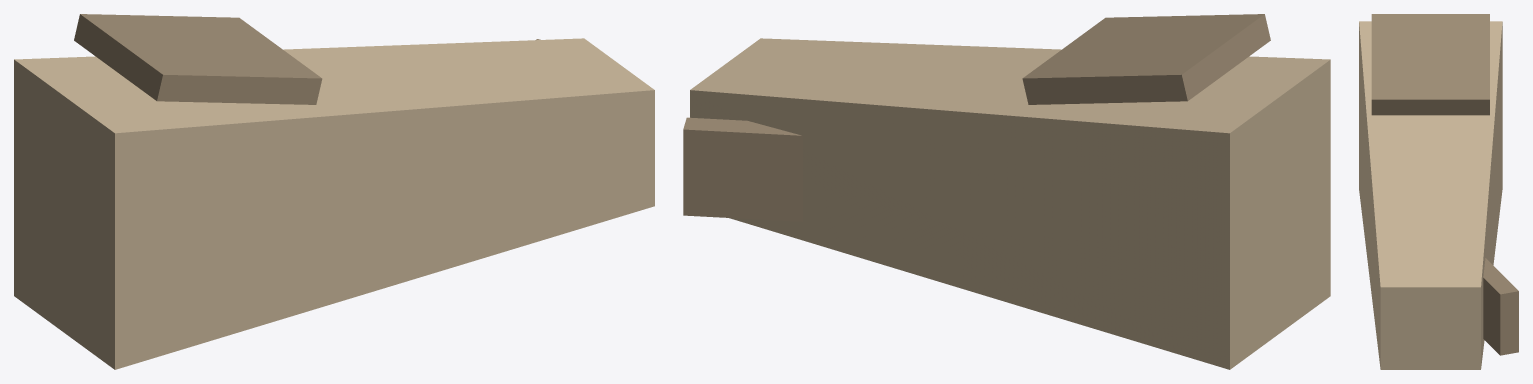
Rendered from prop-last-blank-lm1.fbx.
3 views of the same model, side by side, from view 1: azimuth 30°, elevation 25°; view 2: azimuth 150°, elevation 25°; view 3: azimuth 270°, elevation 25° (orthographic). The views are drawn at different scales.
Parts seen in each view (by area): view 1: prop-last-blank-lm1; view 2: prop-last-blank-lm1; view 3: prop-last-blank-lm1.
Part boxes in pixels (x1=…): prop-last-blank-lm1: x1=14, y1=14, x2=654, y2=369; prop-last-blank-lm1: x1=683, y1=14, x2=1330, y2=369; prop-last-blank-lm1: x1=1359, y1=14, x2=1518, y2=369.
Size of the model in its own units: 27 by 12.77 by 9.47.
